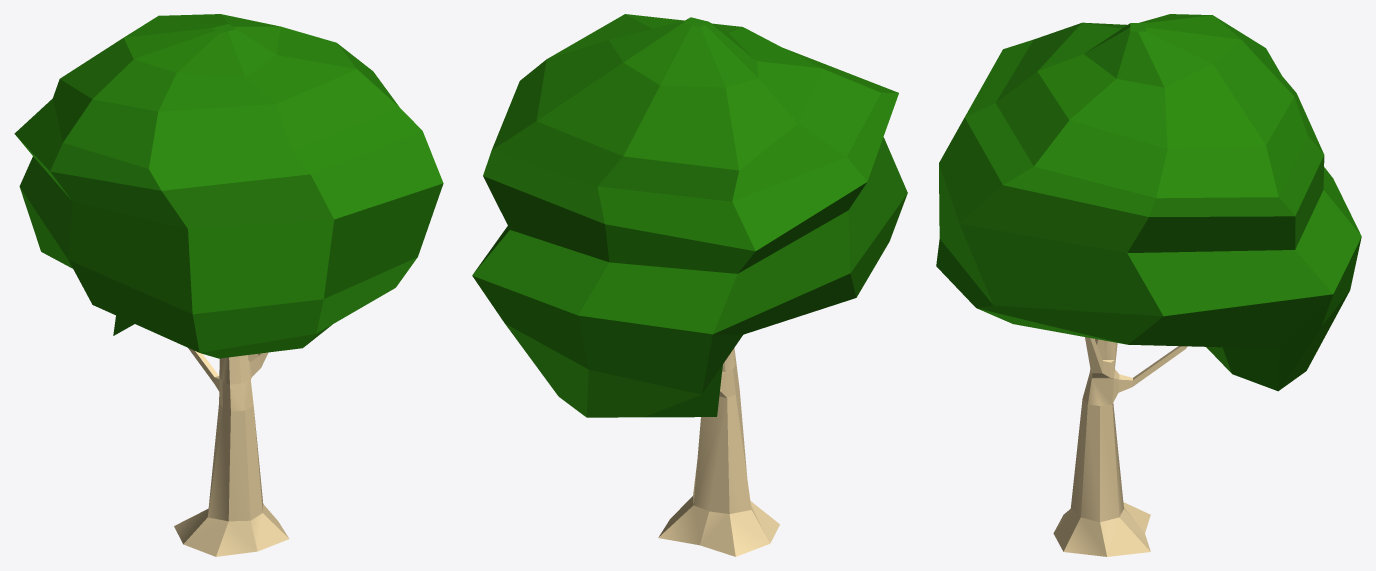
File: Tree_05_Remake.FBX
3 renders of one model, left to right at view 1: azimuth 30°, elevation 25°; view 2: azimuth 150°, elevation 25°; view 3: azimuth 270°, elevation 25°, orthographic. The views are drawn at different scales.
Parts seen in each view (by area): view 1: Tree_05; view 2: Tree_05; view 3: Tree_05.
Part boxes in pixels (<box>): Tree_05: <box>14,14,443,556</box>; Tree_05: <box>472,14,907,556</box>; Tree_05: <box>936,14,1361,556</box>.
Bounding box in the file's own units: 182 × 258 × 195.
